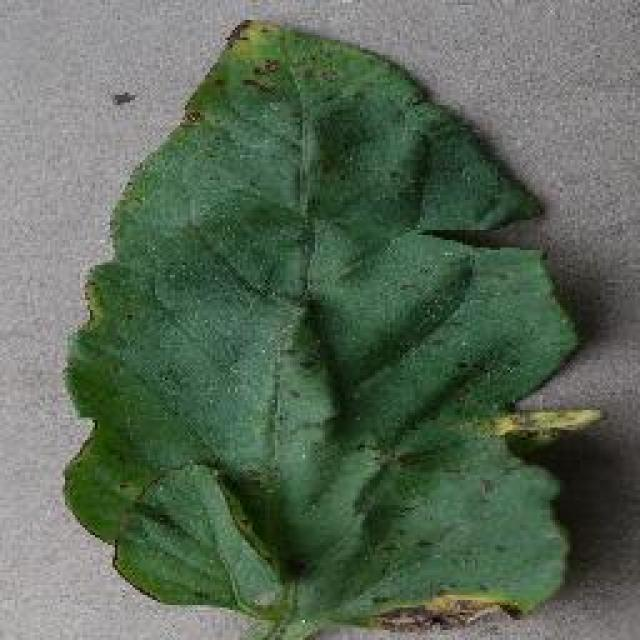Tomato___Bacterial_spot: (54, 19, 613, 638)
